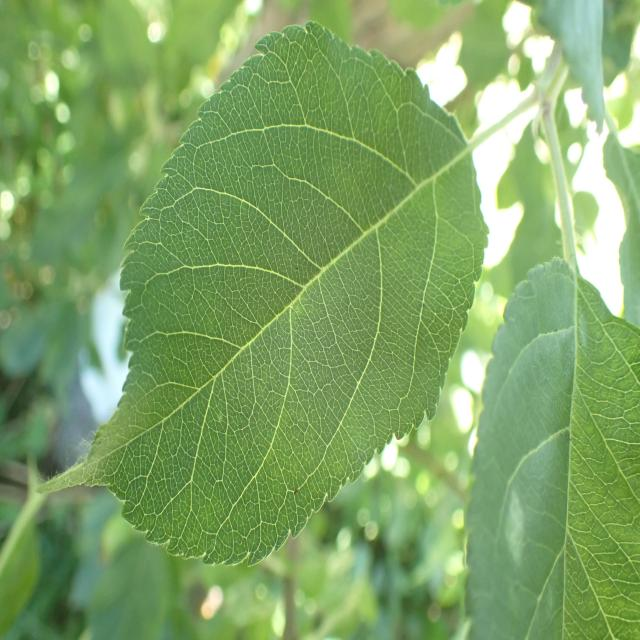healthy: (37, 21, 490, 568), (463, 255, 640, 640)
